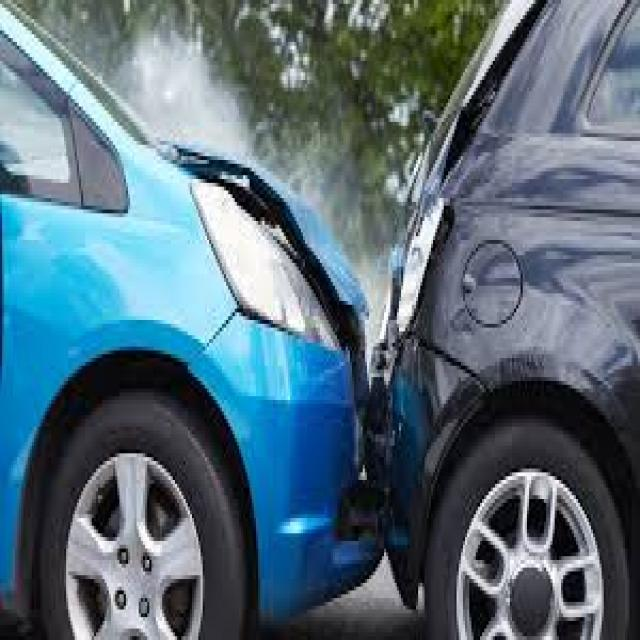accident: (164, 53, 555, 595)
